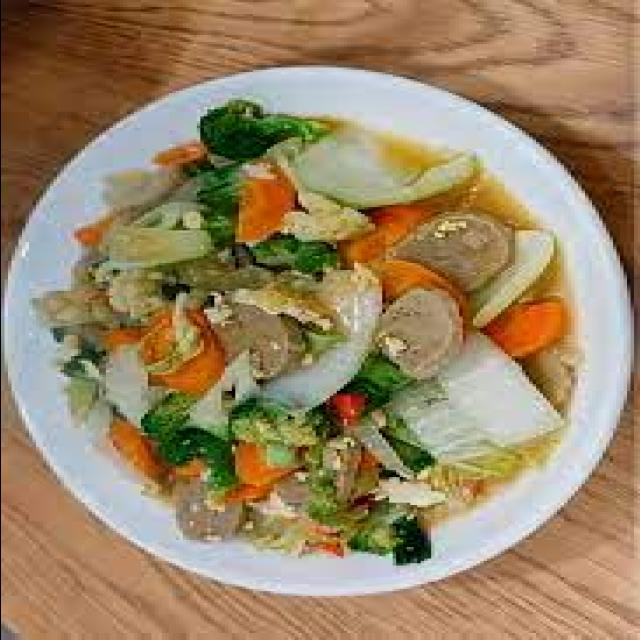capcay: (31, 121, 588, 570)
